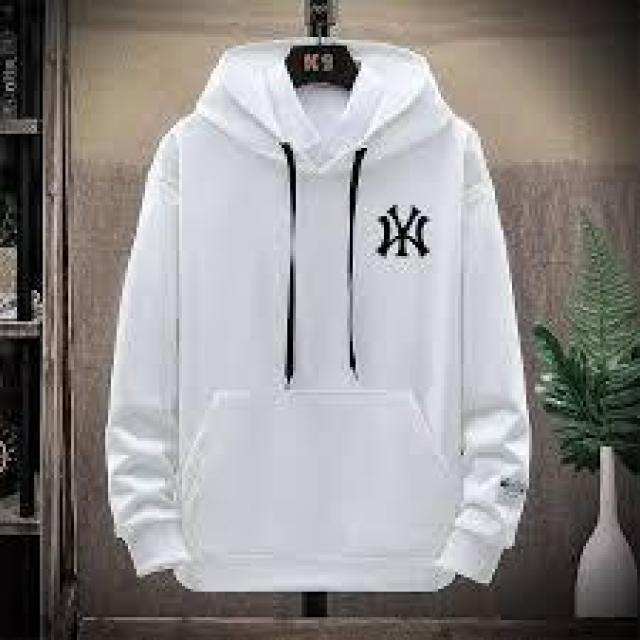sweater: (112, 58, 514, 599)
